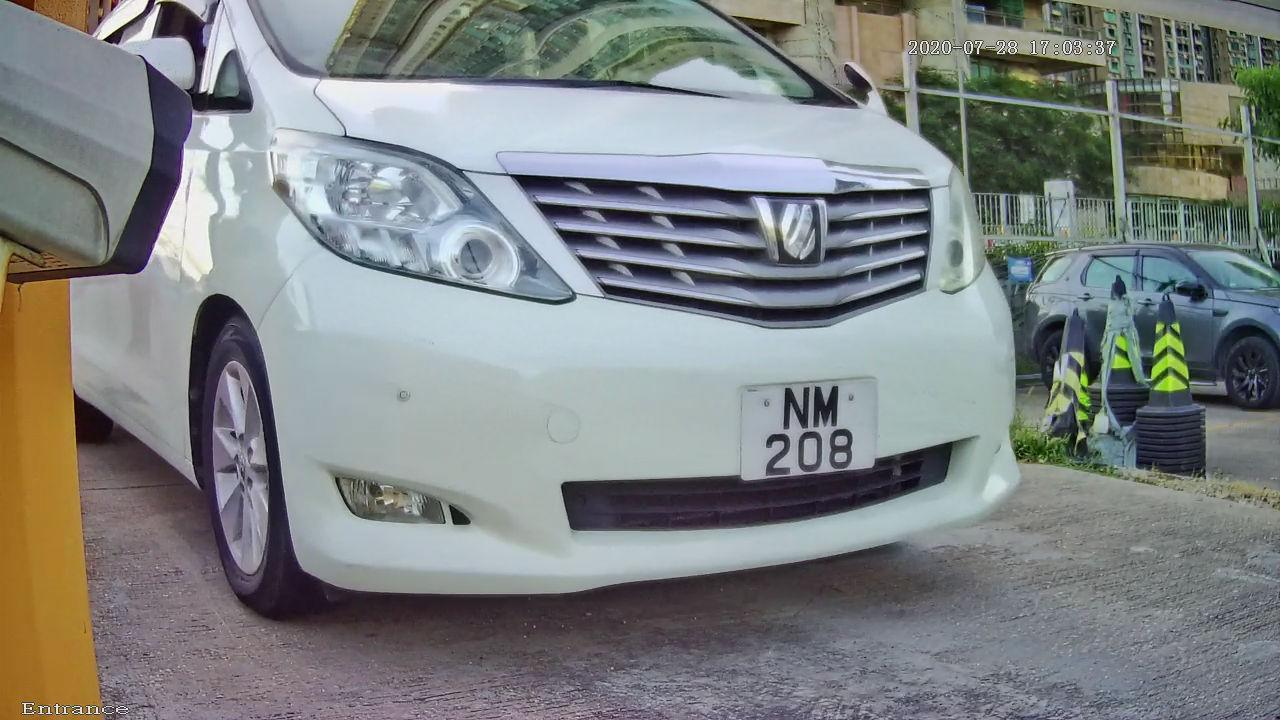privatecar: (41, 7, 1183, 650)
